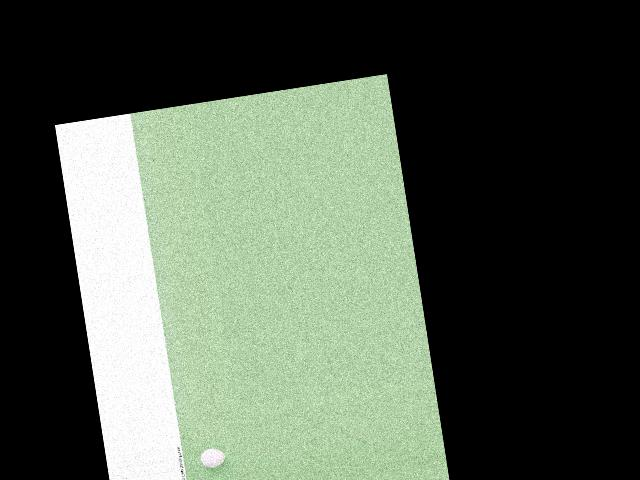egg: (199, 446, 226, 468)
